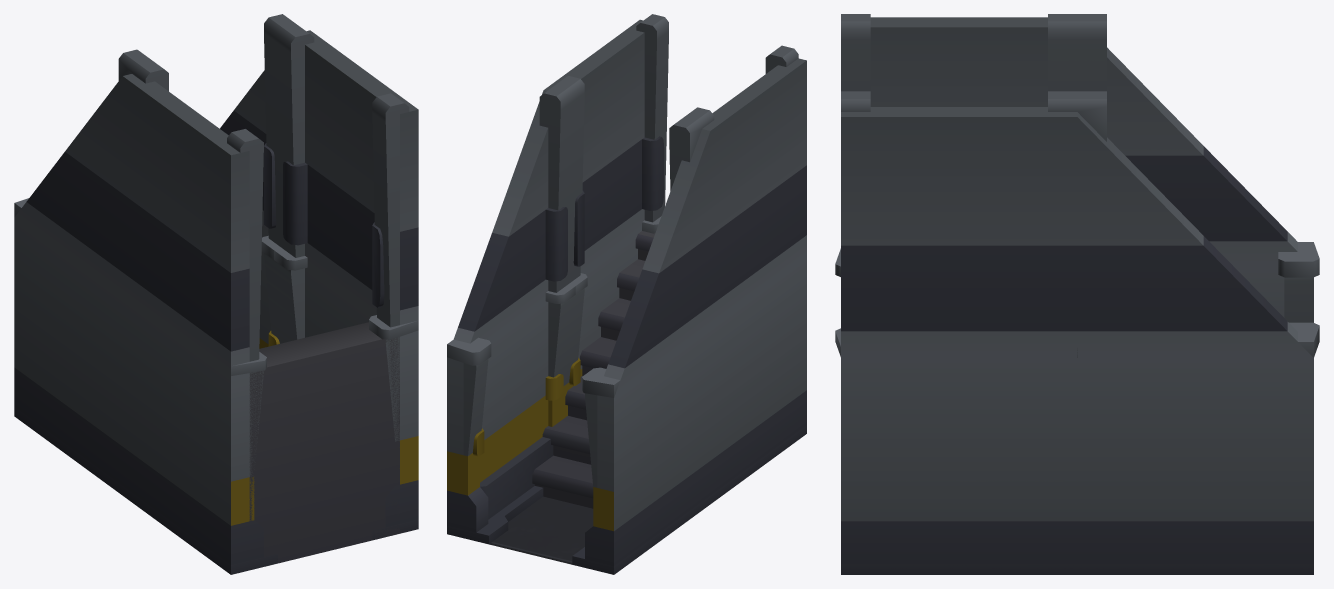
File: k_stairs.glb
3 views of the same model, side by side, from view 1: azimuth 30°, elevation 25°; view 2: azimuth 150°, elevation 25°; view 3: azimuth 270°, elevation 25° (orthographic). The views are drawn at different scales.
Parts seen in each view (by area): view 1: stairs; view 2: stairs; view 3: stairs.
Part boxes in pixels (x1,y1,x2,y2): stairs: [14, 14, 418, 574]; stairs: [447, 14, 806, 574]; stairs: [835, 14, 1319, 574].
Bounding box in the file's own units: 4 × 8.75 × 8.2.
1 material, 1 textured.
